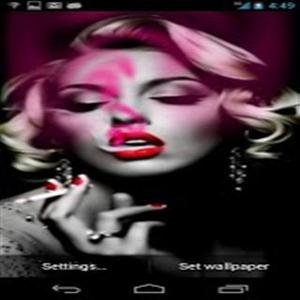cigarette: (13, 184, 92, 205)
